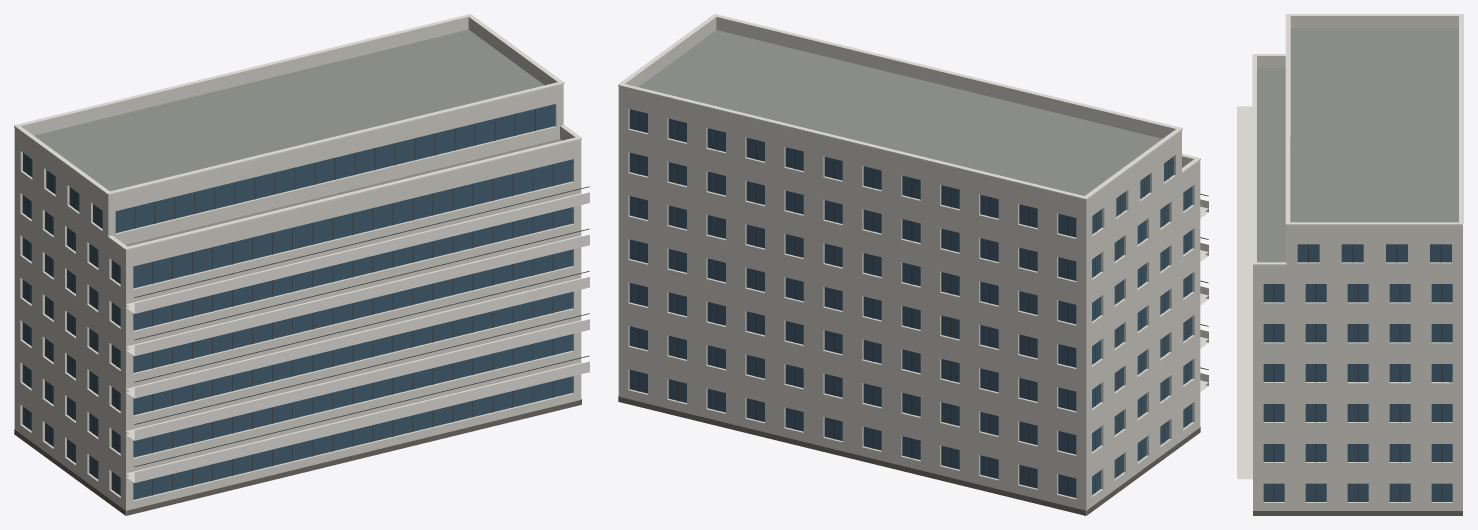
3 views of the same model, side by side, from view 1: azimuth 30°, elevation 25°; view 2: azimuth 150°, elevation 25°; view 3: azimuth 270°, elevation 25° (orthographic). The views are drawn at different scales.
Visible parts, largest first — view 1: intlHouse__wall, intlHouse__glass, intlHouse__trim, intlHouse__roof, intlHouse__parapet, intlHouse__frame, intlHouse__base; view 2: intlHouse__wall, intlHouse__glass, intlHouse__roof, intlHouse__parapet, intlHouse__trim, intlHouse__frame, intlHouse__base; view 3: intlHouse__wall, intlHouse__roof, intlHouse__glass, intlHouse__trim, intlHouse__parapet, intlHouse__frame, intlHouse__base.
Boxes of the visible parts, bbox=[...] form: intlHouse__wall: bbox=[14, 95, 581, 515]; intlHouse__glass: bbox=[22, 104, 572, 499]; intlHouse__trim: bbox=[14, 14, 589, 482]; intlHouse__roof: bbox=[34, 29, 561, 246]; intlHouse__parapet: bbox=[14, 17, 581, 261]; intlHouse__frame: bbox=[27, 109, 589, 495]; intlHouse__base: bbox=[14, 399, 581, 515]; intlHouse__wall: bbox=[618, 98, 1200, 515]; intlHouse__glass: bbox=[629, 109, 1192, 497]; intlHouse__roof: bbox=[638, 30, 1161, 195]; intlHouse__parapet: bbox=[618, 17, 1200, 211]; intlHouse__trim: bbox=[618, 14, 1208, 391]; intlHouse__frame: bbox=[638, 111, 1208, 496]; intlHouse__base: bbox=[618, 396, 1200, 515]; intlHouse__wall: bbox=[1253, 236, 1462, 510]; intlHouse__roof: bbox=[1257, 28, 1458, 262]; intlHouse__glass: bbox=[1263, 244, 1452, 501]; intlHouse__trim: bbox=[1237, 14, 1463, 479]; intlHouse__parapet: bbox=[1253, 16, 1462, 275]; intlHouse__frame: bbox=[1273, 244, 1442, 501]; intlHouse__base: bbox=[1253, 511, 1462, 515].
Size of the model in its own units: 37.3 by 24.12 by 16.99.
